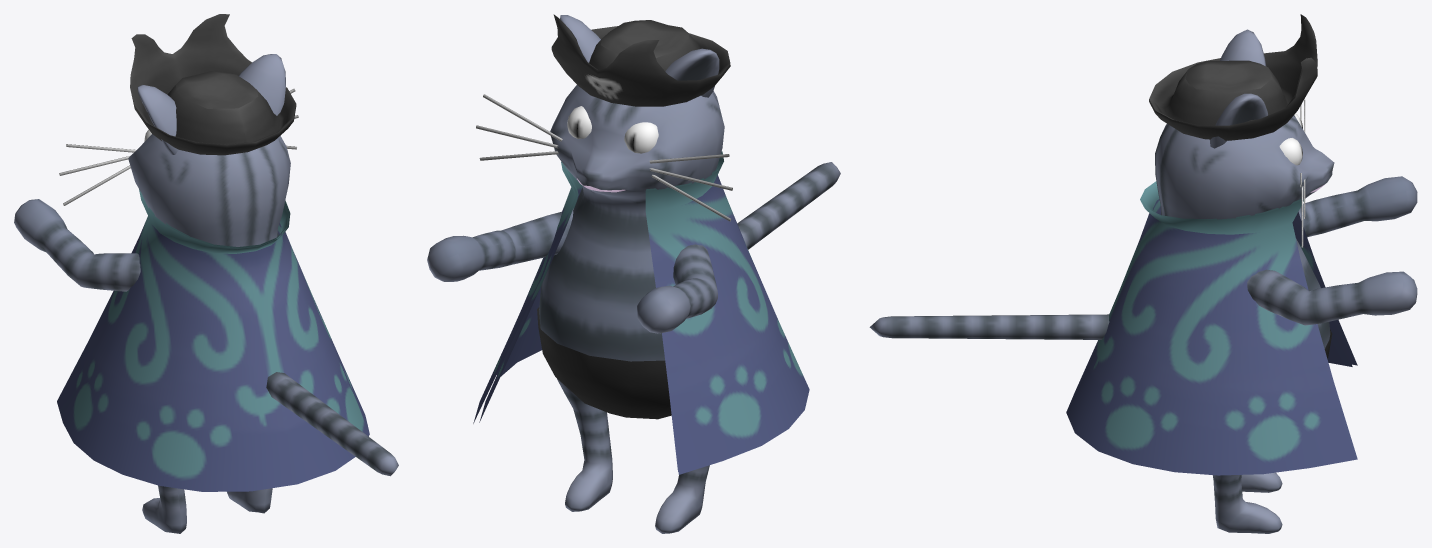
The model's file is neko_kamae_01.fbx.
3 renders of one model, left to right at view 1: azimuth 30°, elevation 25°; view 2: azimuth 150°, elevation 25°; view 3: azimuth 270°, elevation 25°, orthographic. The views are drawn at different scales.
Visible parts, largest first — view 1: K_01; view 2: K_01; view 3: K_01.
Part boxes in pixels (left/top/right/bottom): K_01: left=14, top=14, right=398, bottom=533; K_01: left=427, top=14, right=840, bottom=533; K_01: left=869, top=14, right=1417, bottom=533.
Bounding box in the file's own units: 1.1 × 1.93 × 2.03.
Materials: 1 (1 with a texture image).
